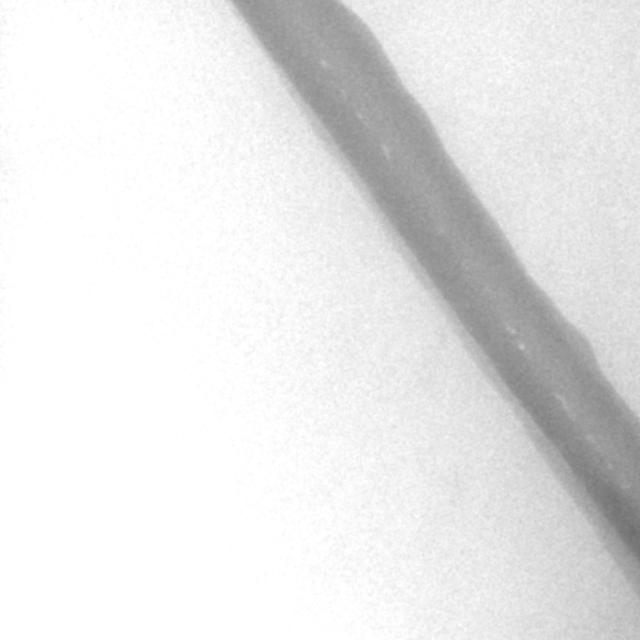air hole: (378, 141, 391, 161), (316, 55, 327, 69), (506, 323, 515, 336), (517, 341, 525, 353)
